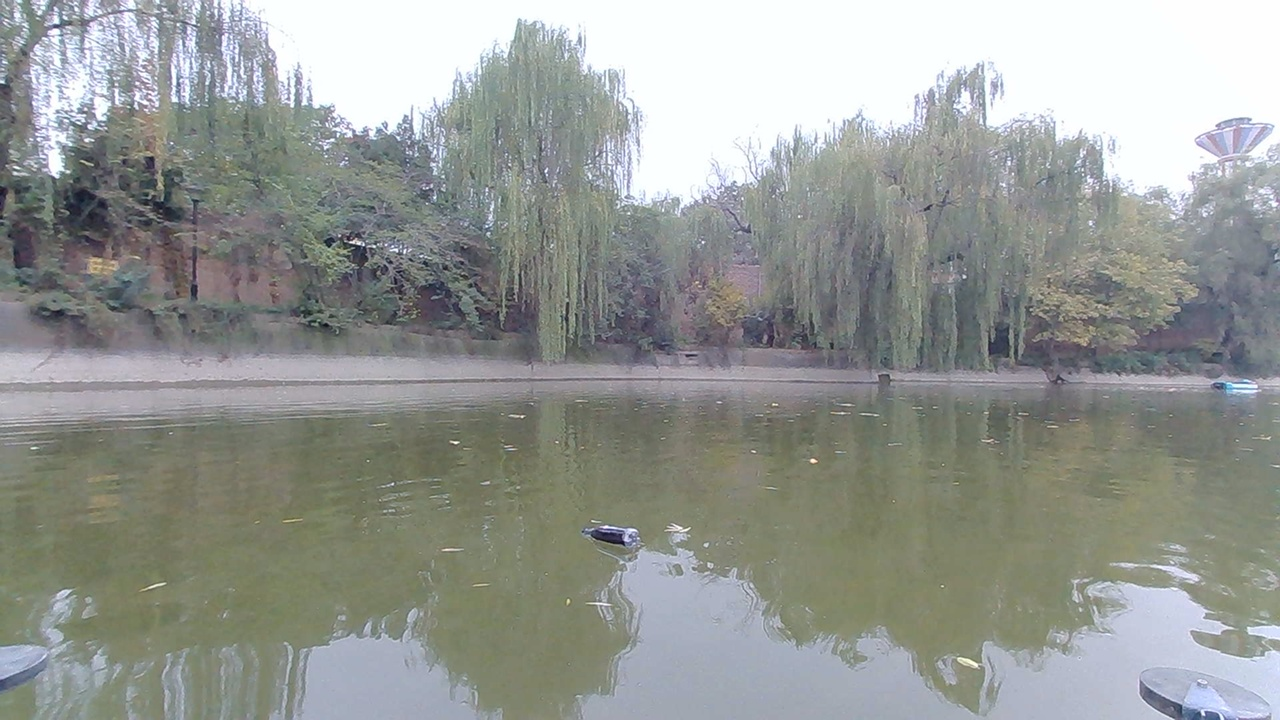bottle: (590, 522, 644, 556)
